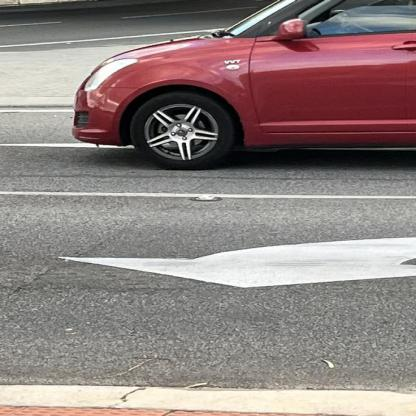Tire: (128, 91, 236, 171)
